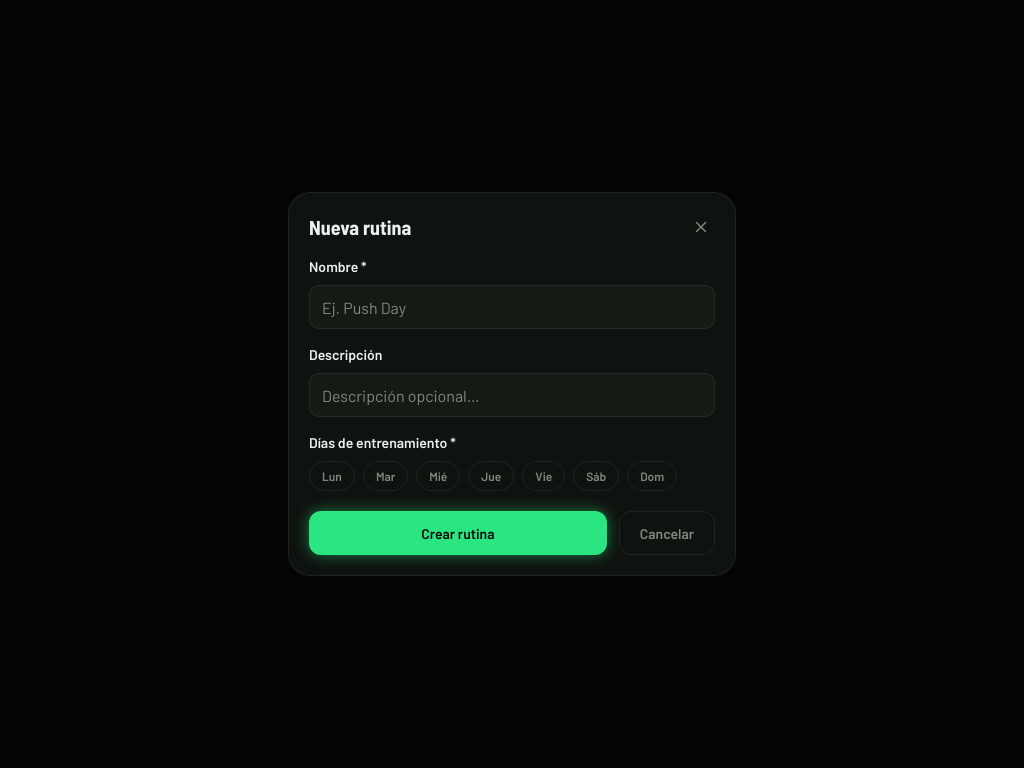
Test: NewRoutineModal › shows a validation error when submitting without a name
Click the button with aria-label "Lunes" at x=332, y=476, box [309,461,355,491]
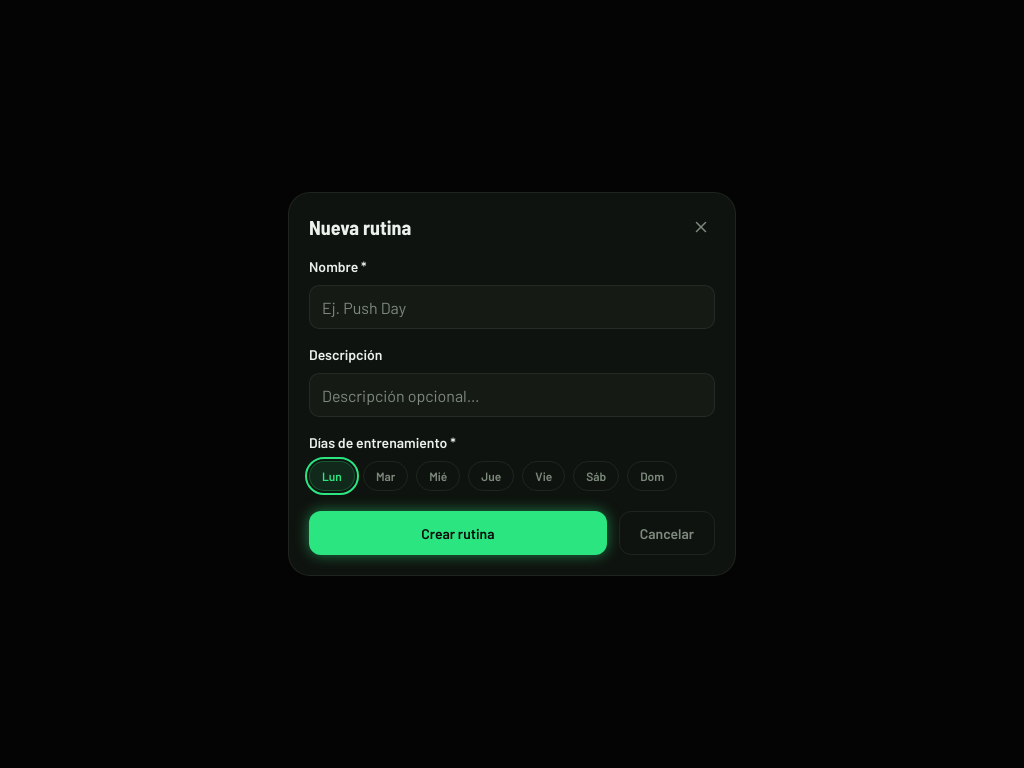
Click the button "Crear rutina" at x=458, y=533, box [309,511,607,555]
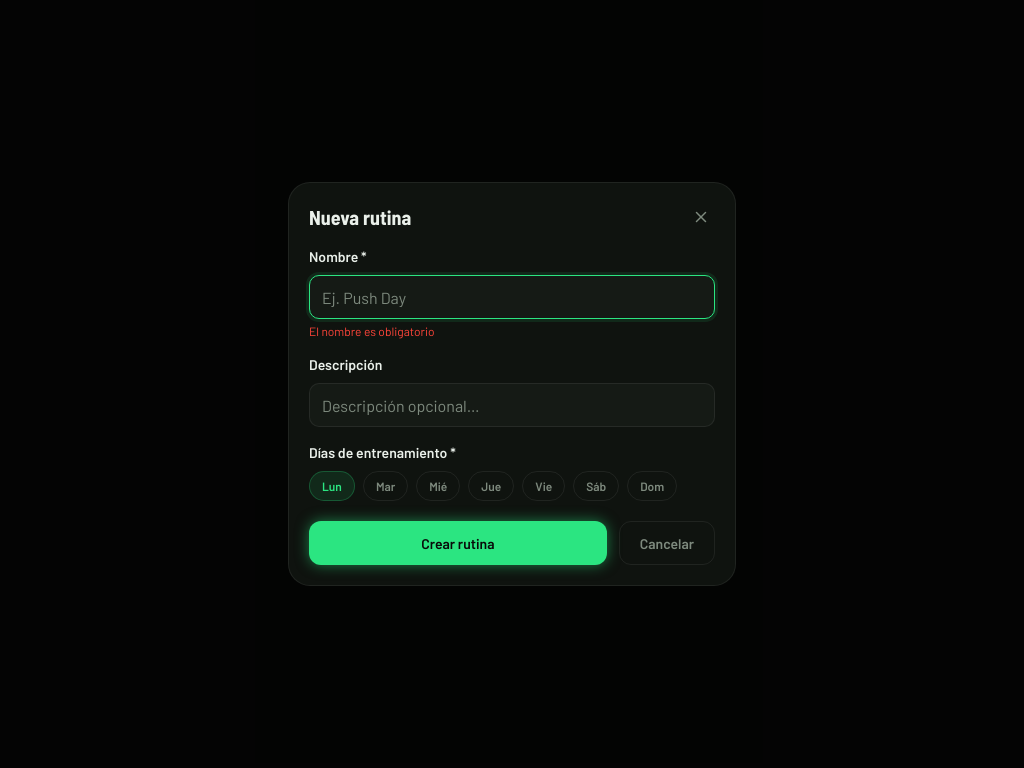
expect the text "El nombre es obligatorio" is shown: met, box [309,324,434,338]
